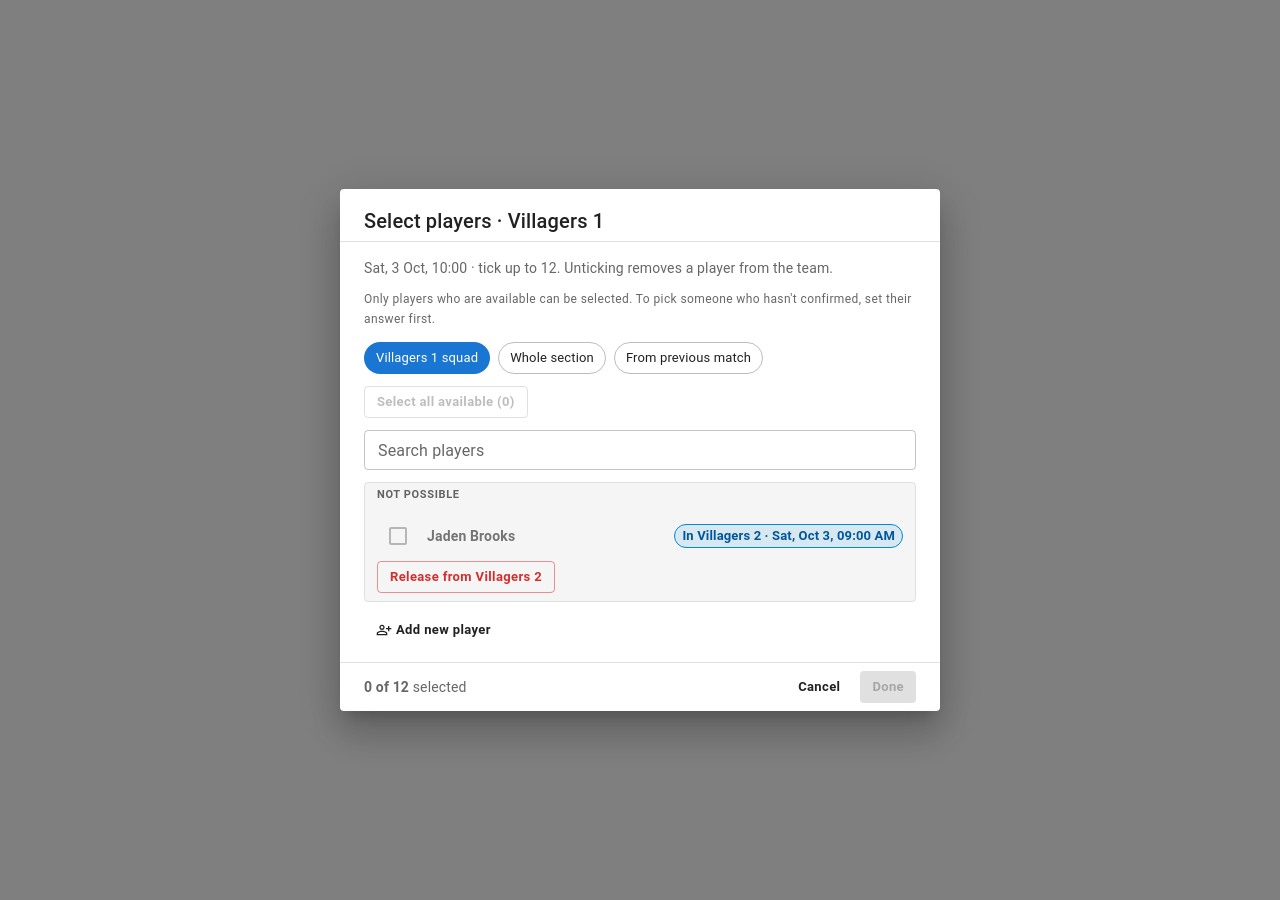
SelectPlayersDialog › blocked rows › adds the announced warning when the other team is announced
Click the button "Release from Villagers 2" at (466, 577), box [377, 561, 555, 593]
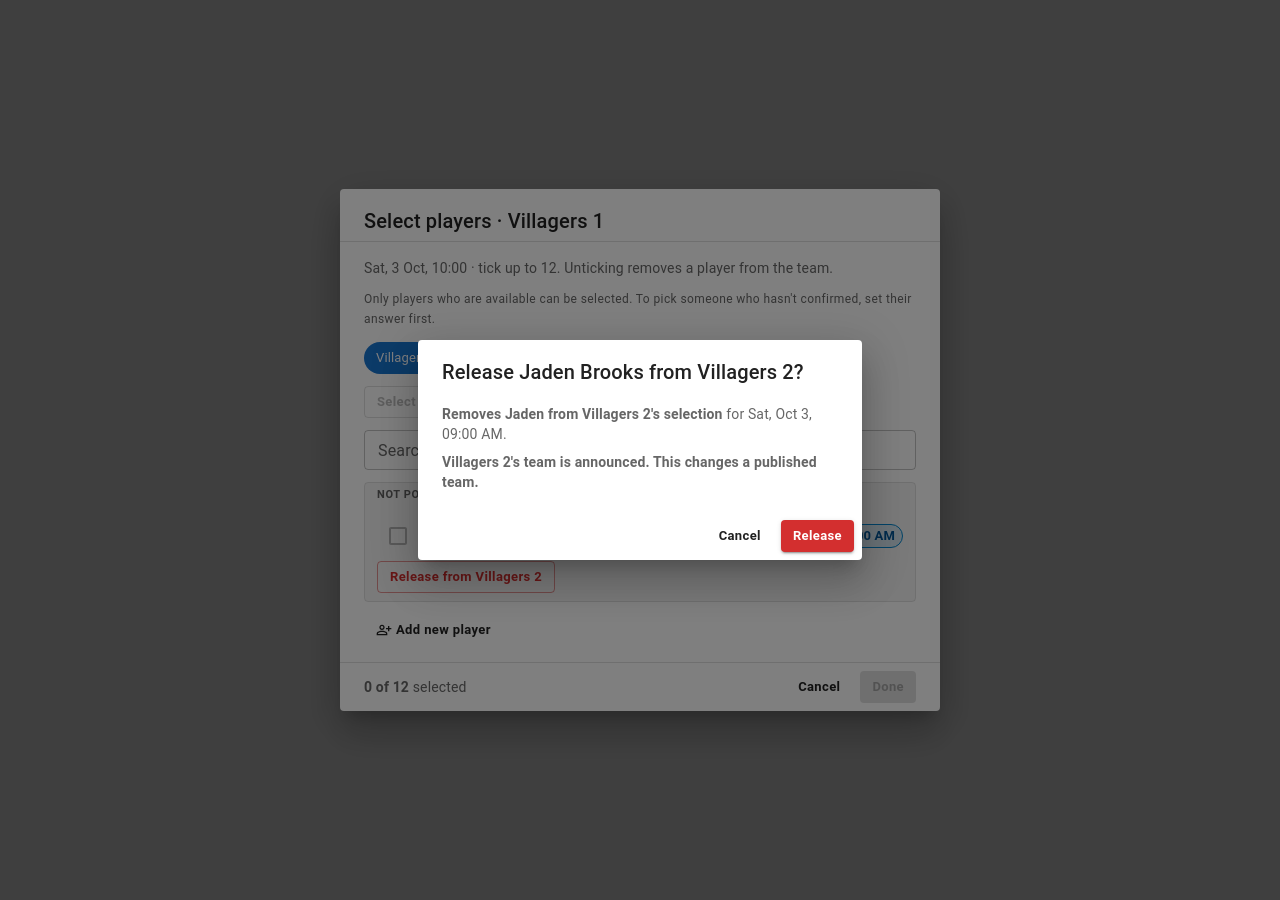
Check: the text "Villagers 2's team is announced. This changes a published team." is shown, box [442, 454, 817, 490]
